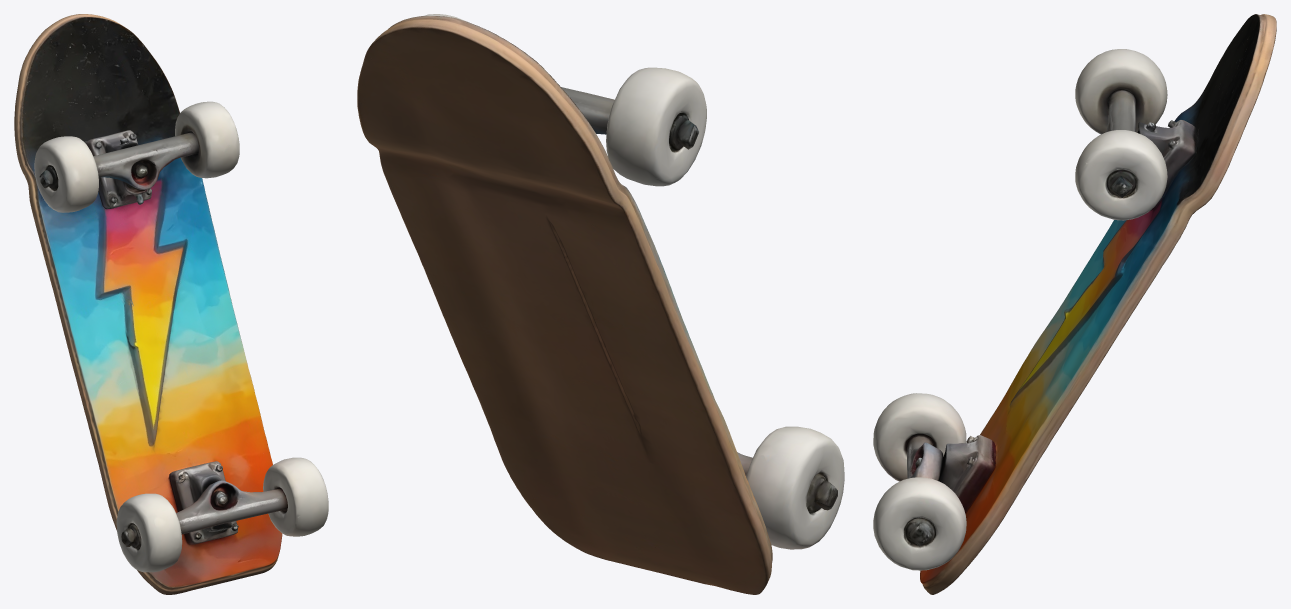
Rendered from board.glb.
The picture shows the model from 3 angles, left to right: view 1: azimuth 30°, elevation 25°; view 2: azimuth 150°, elevation 25°; view 3: azimuth 270°, elevation 25°; orthographic projection. The views are drawn at different scales.
Parts seen in each view (by area): view 1: tripo_node_7ab5eab1-c159-440a-b539-a52a5a6ad4dd; view 2: tripo_node_7ab5eab1-c159-440a-b539-a52a5a6ad4dd; view 3: tripo_node_7ab5eab1-c159-440a-b539-a52a5a6ad4dd.
Part boxes in pixels (x1,y1,x2,y2): tripo_node_7ab5eab1-c159-440a-b539-a52a5a6ad4dd: (14, 14, 328, 594); tripo_node_7ab5eab1-c159-440a-b539-a52a5a6ad4dd: (357, 14, 844, 594); tripo_node_7ab5eab1-c159-440a-b539-a52a5a6ad4dd: (873, 14, 1276, 594).
Bounding box in the file's own units: 0.4424 × 1 × 0.6717.
1 material, 1 textured.
